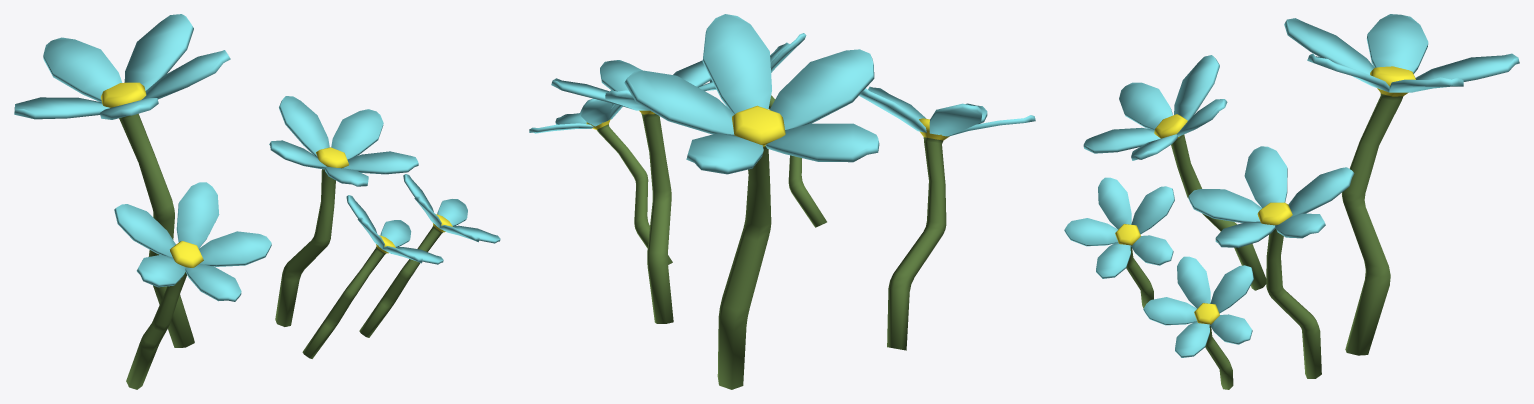
Rendered from Flower_2.fbx.
3 renders of one model, left to right at view 1: azimuth 30°, elevation 25°; view 2: azimuth 150°, elevation 25°; view 3: azimuth 270°, elevation 25°, orthographic. The views are drawn at different scales.
Visible parts, largest first — view 1: Flower_2; view 2: Flower_2; view 3: Flower_2.
Part boxes in pixels (x1,y1,x2,y2): Flower_2: [14, 14, 500, 389]; Flower_2: [529, 14, 1035, 389]; Flower_2: [1064, 14, 1519, 389].
Bounding box in the file's own units: 0.2947 × 0.2195 × 0.2928.
